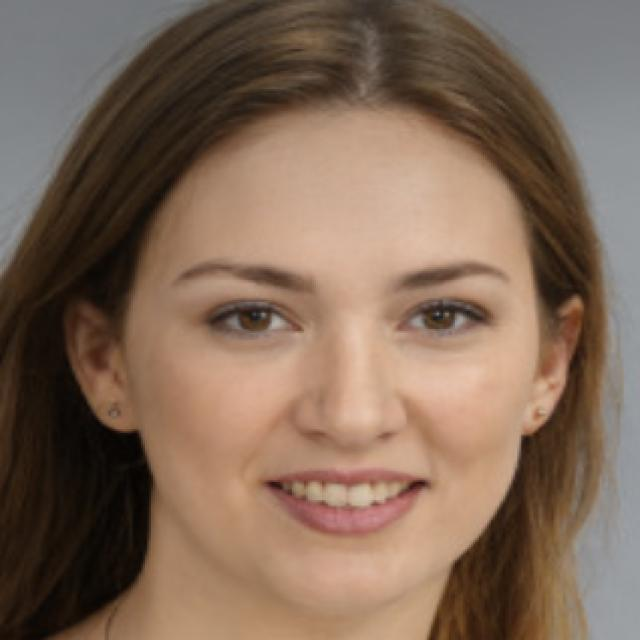happy: (71, 54, 602, 640)
